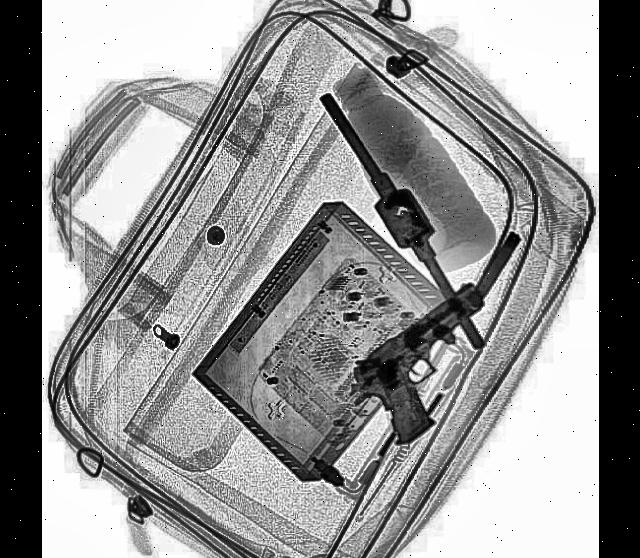Gun: (340, 284, 512, 466)
